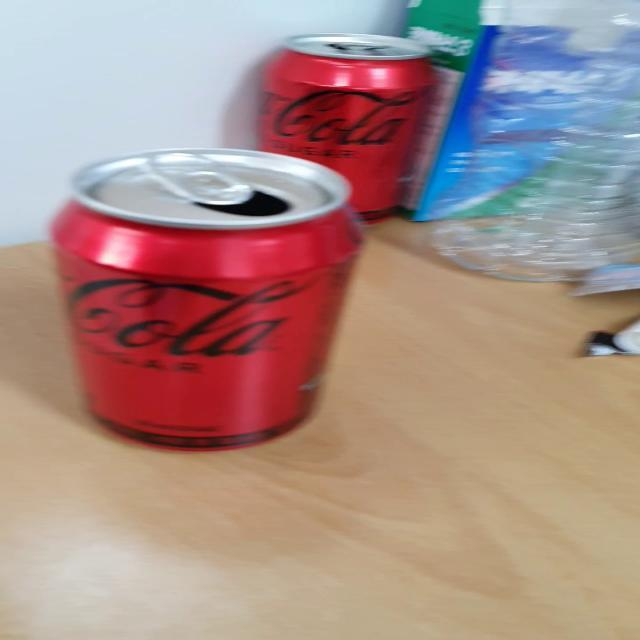coca-cola: (31, 136, 391, 468)
